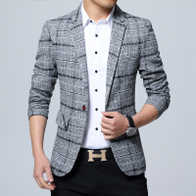F_M_suit jacket: (22, 10, 170, 164)
F_belt: (78, 144, 113, 163)
